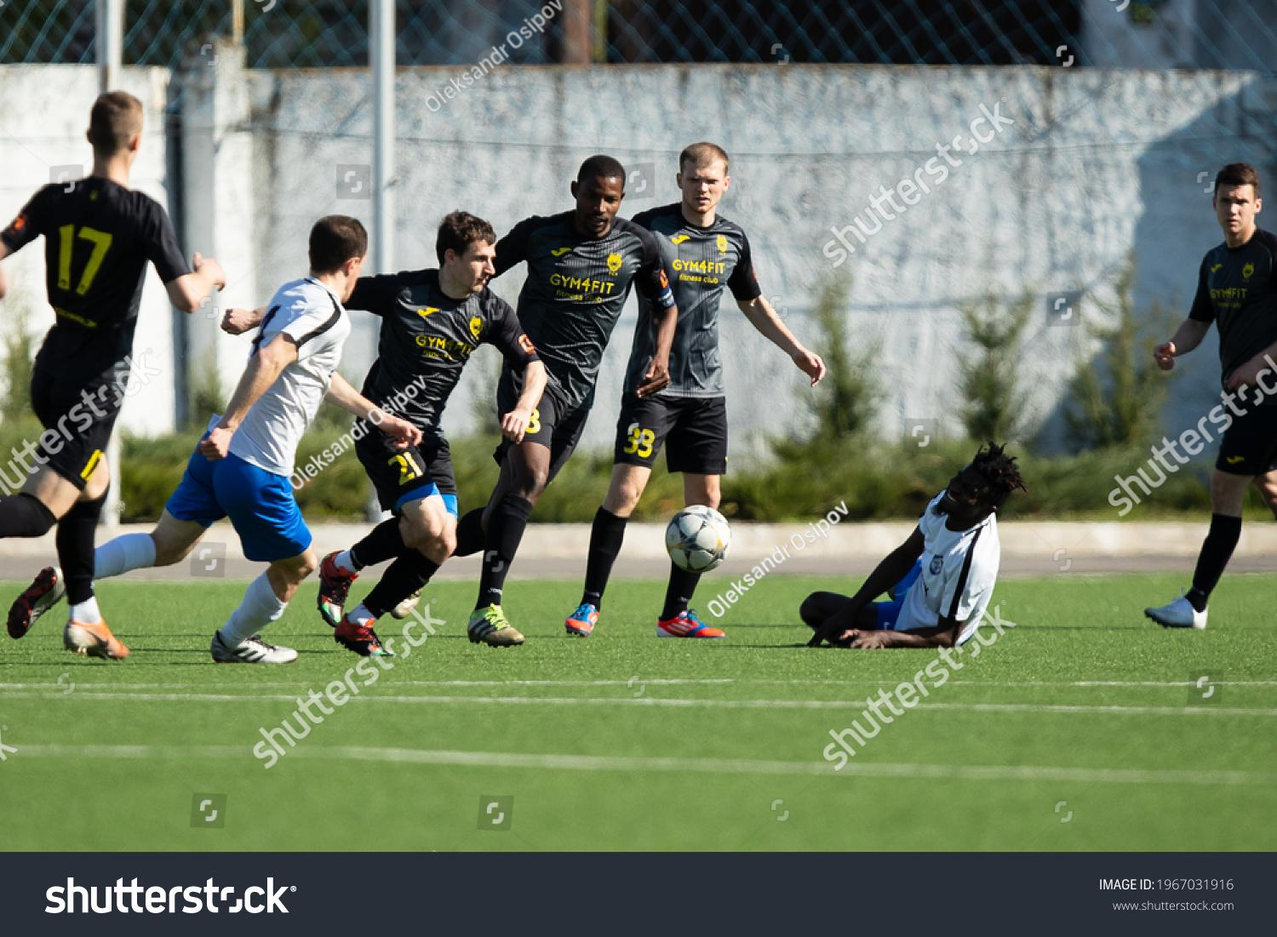ballon_football: (664, 504, 734, 574)
